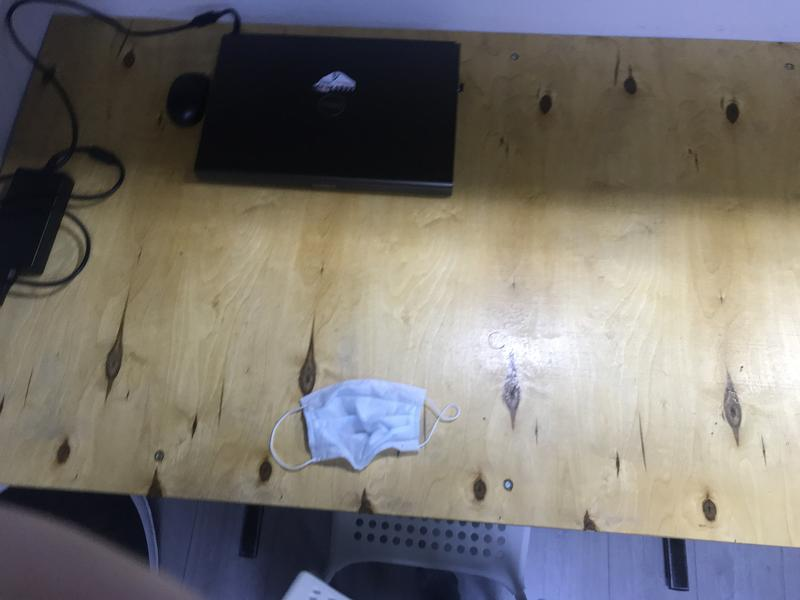medical_mask: (269, 379, 461, 472)
